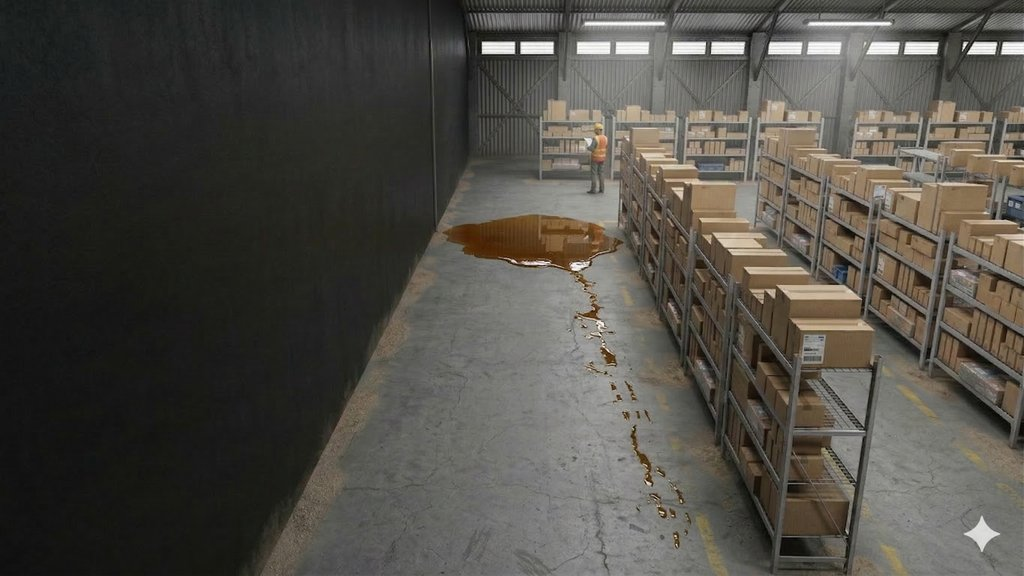empty_shelf: (806, 366, 864, 433), (791, 447, 860, 486), (904, 127, 939, 181)
person: (583, 119, 621, 195)
safety_vest: (589, 125, 607, 167)
spill: (450, 197, 634, 356)
